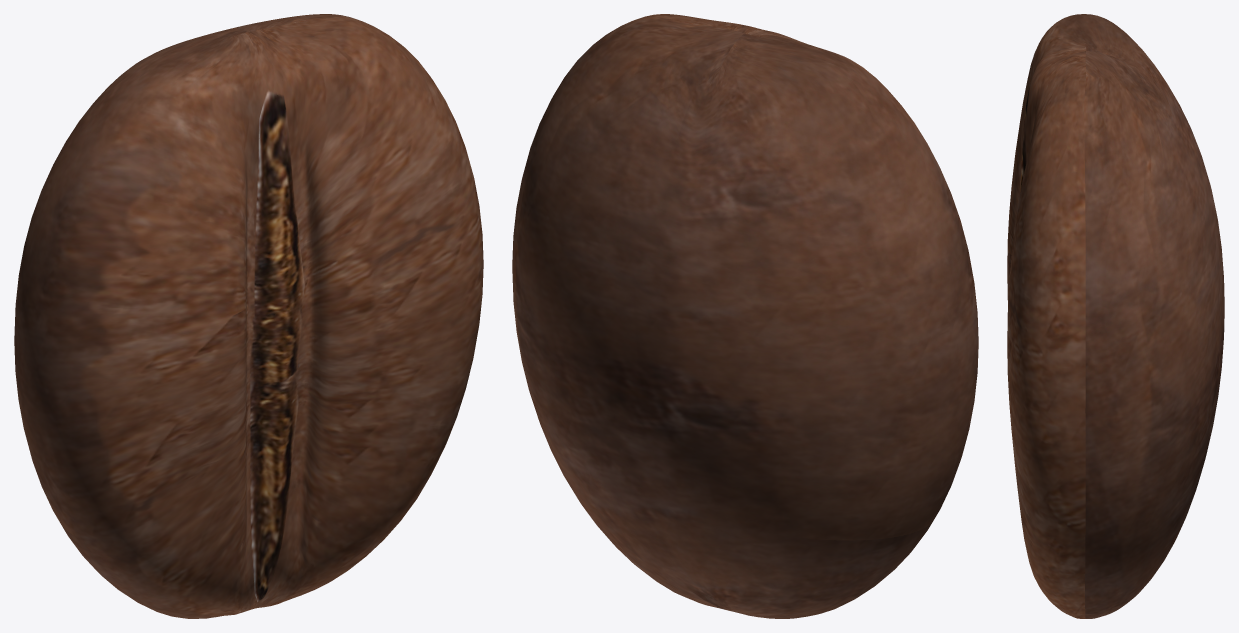
File: coffee.fbx
The picture shows the model from 3 angles, left to right: view 1: azimuth 30°, elevation 25°; view 2: azimuth 150°, elevation 25°; view 3: azimuth 270°, elevation 25°; orthographic projection. The views are drawn at different scales.
Visible parts, largest first — view 1: 10177_CoffeeBean_v01_it2; view 2: 10177_CoffeeBean_v01_it2; view 3: 10177_CoffeeBean_v01_it2.
Part boxes in pixels (left/top/right/bottom): 10177_CoffeeBean_v01_it2: left=14, top=14, right=483, bottom=618; 10177_CoffeeBean_v01_it2: left=512, top=14, right=978, bottom=618; 10177_CoffeeBean_v01_it2: left=1007, top=14, right=1224, bottom=618.
Size of the model in its own units: 460 by 569 by 205.
1 material, 1 textured.
